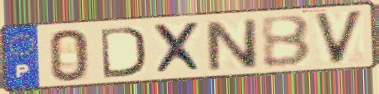0: (48, 27, 91, 83)
B: (258, 13, 313, 69)
D: (98, 25, 148, 80)
N: (202, 17, 261, 73)
V: (311, 8, 366, 66)
X: (150, 20, 207, 77)
